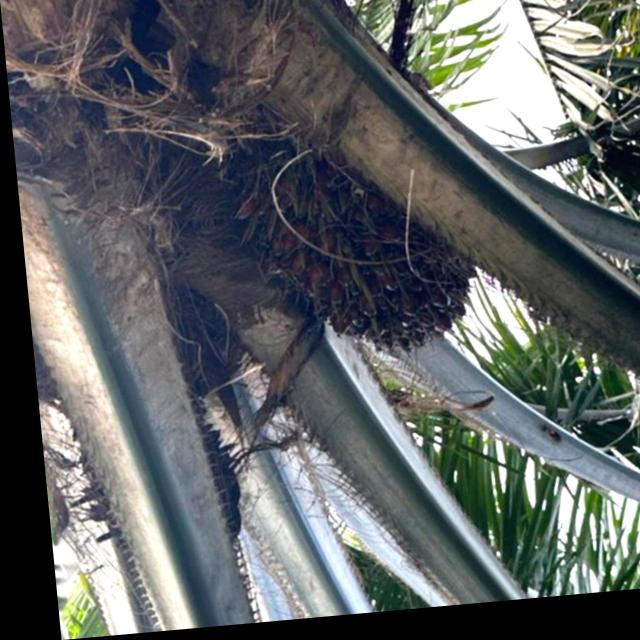ripe: (225, 127, 473, 380)
